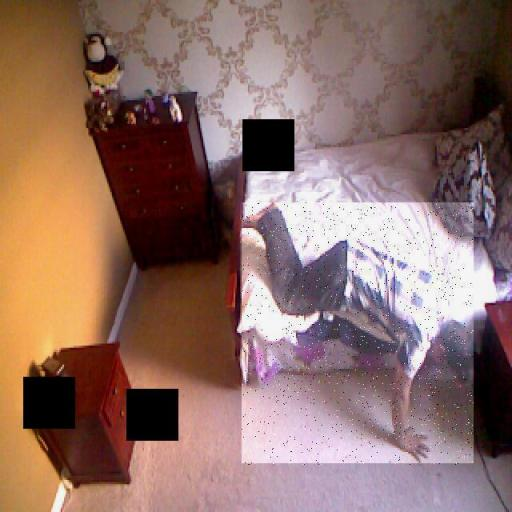Fall: (242, 203, 474, 466)
